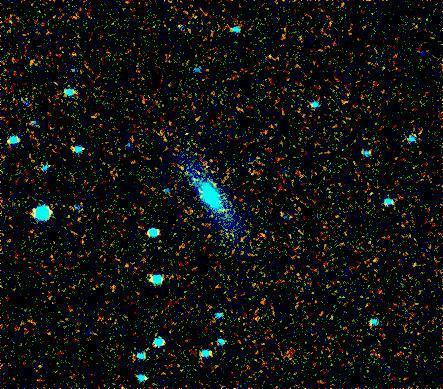star: (200, 168, 230, 198)
